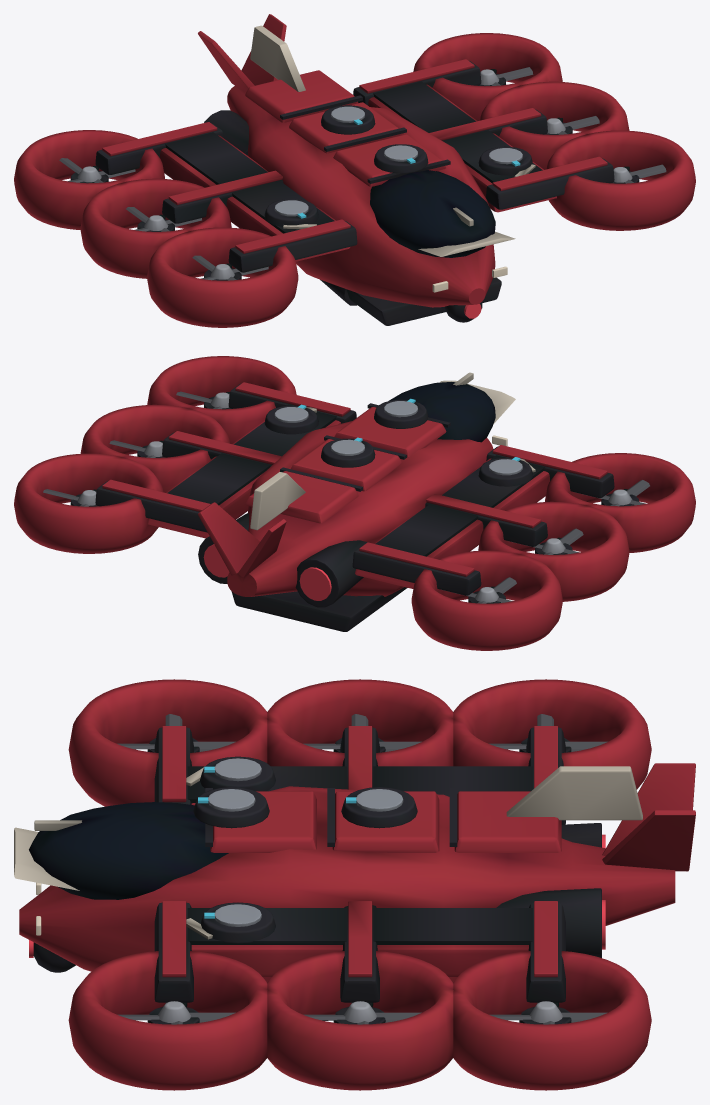
The model's file is ex_gunship_6.glb.
3 views of the same model, one above another, from view 1: azimuth 30°, elevation 25°; view 2: azimuth 150°, elevation 25°; view 3: azimuth 270°, elevation 25° (orthographic). The views are drawn at different scales.
Visible parts, largest first — view 1: body, rotor_3, rotor_5, rotor_4, rotor_1, rotor_0, rotor_2; view 2: body, rotor_3, rotor_5, rotor_4; view 3: body, rotor_2, rotor_0, rotor_1, rotor_3, rotor_4, rotor_5.
Boxes of the visible parts, bbox=[...] form: body: bbox=[14, 14, 695, 327]; rotor_3: bbox=[192, 255, 268, 280]; rotor_5: bbox=[59, 158, 135, 182]; rotor_4: bbox=[126, 207, 201, 231]; rotor_1: bbox=[547, 116, 599, 134]; rotor_0: bbox=[613, 164, 666, 183]; rotor_2: bbox=[480, 67, 533, 85]; body: bbox=[14, 356, 695, 650]; rotor_3: bbox=[582, 480, 649, 506]; rotor_5: bbox=[441, 577, 516, 603]; rotor_4: bbox=[511, 528, 583, 554]; body: bbox=[14, 679, 695, 1090]; rotor_2: bbox=[489, 1001, 607, 1024]; rotor_0: bbox=[117, 1001, 235, 1024]; rotor_1: bbox=[303, 1001, 421, 1024]; rotor_3: bbox=[117, 714, 235, 751]; rotor_4: bbox=[303, 714, 421, 751]; rotor_5: bbox=[489, 714, 607, 751].
Size of the model in its own units: 12.75 by 3.68 by 10.2.
